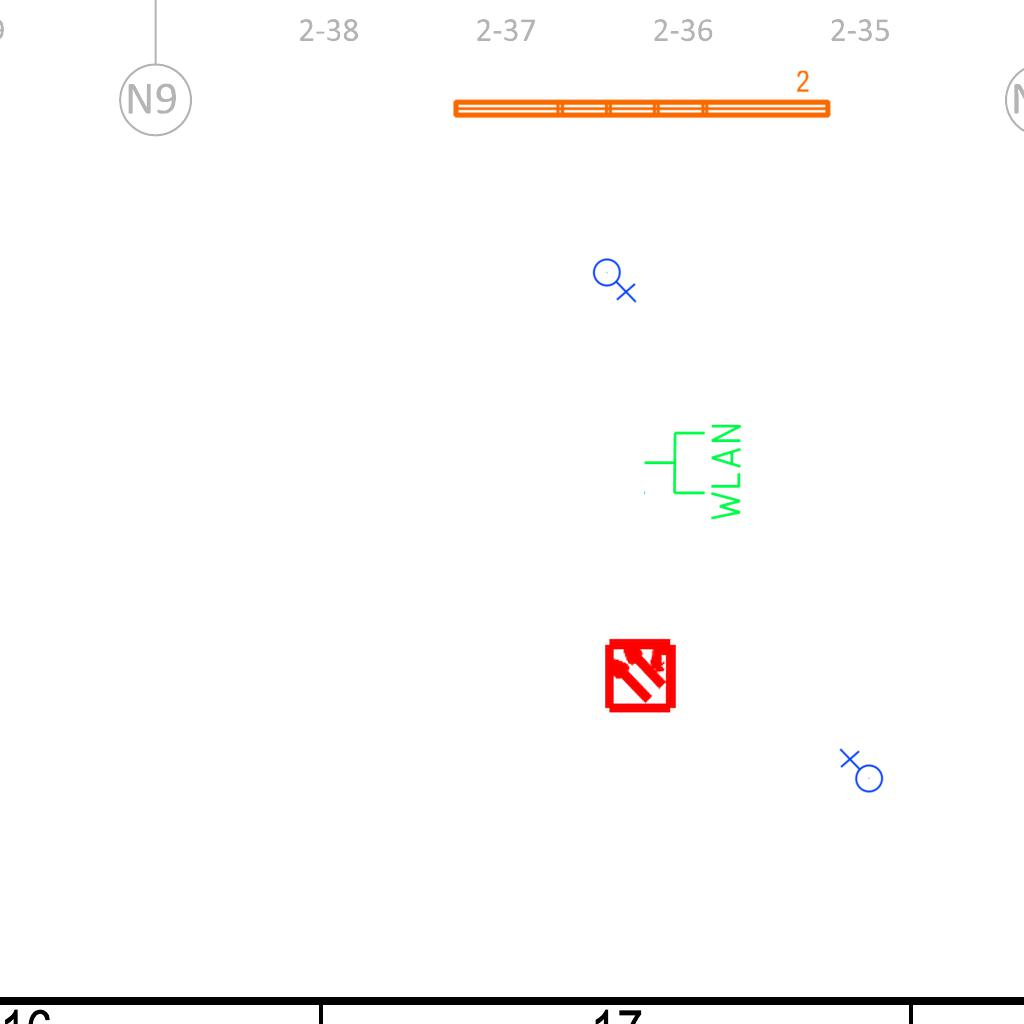Ambulanz_Pendelleuchte_LED: (448, 68, 835, 124)
Elektroanschluss_allgemein_230V_Geraeteanschlussdose_230V: (837, 748, 884, 797), (592, 254, 639, 303)
OT_Multisensormelder_(Kombination_RMO_WMD): (584, 617, 697, 730)
WLAN: (641, 420, 745, 525)
